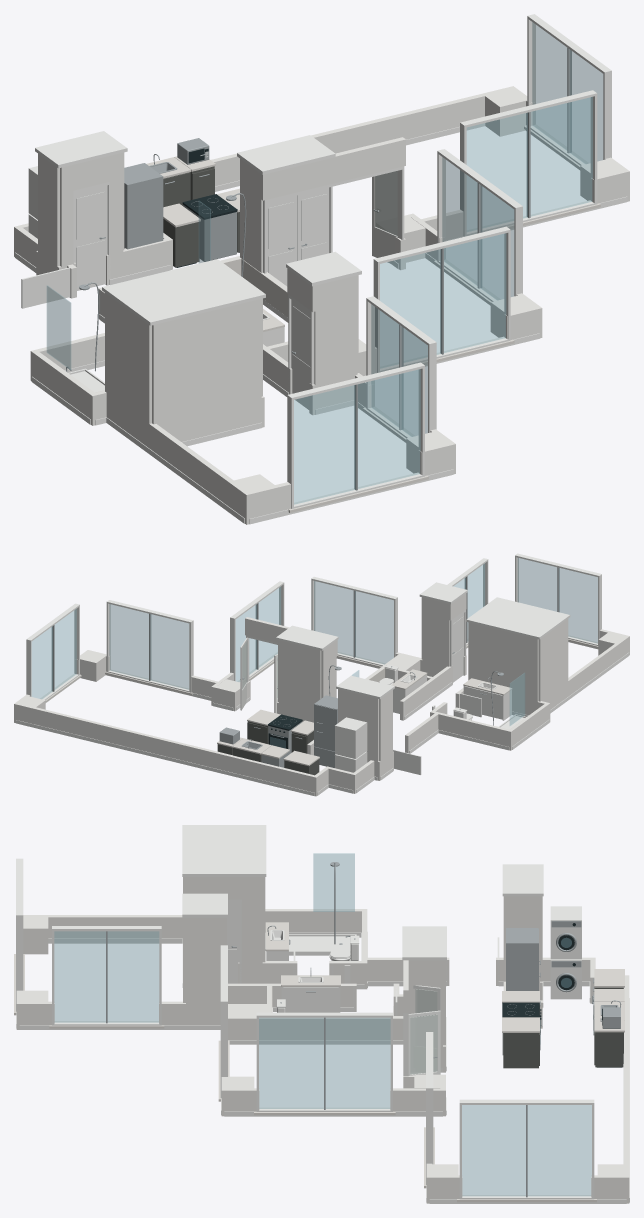
File: bush-4101-cutaway.glb
The picture shows the model from 3 angles, top to bottom: view 1: azimuth 30°, elevation 25°; view 2: azimuth 150°, elevation 25°; view 3: azimuth 270°, elevation 25°; orthographic projection. The views are drawn at different scales.
Visible parts, largest first — view 1: Window glazing (×6), Closet enclosure wall (×7), Wall (×13), Closet ceiling (×4), Window rail (×8), Wall above doorway (×4), Window jamb (×7), Door inset panel (×5), Painted door leaf (×4), Structural pier (×4), Refrigerator body, Oven body (+7 smaller); view 2: Window glazing (×6), Closet enclosure wall (×7), Wall (×12), Closet ceiling (×4), White baseboard, Window rail (×3), Dryer housing, Structural pier (×2), Painted door leaf (×2), Refrigerator door, Sink cabinet front, Wall above doorway (+5 smaller); view 3: Window glazing (×3), Wall (×14), Closet ceiling (×4), Closet enclosure wall (×4), Window rail (×6), White baseboard (×5), Glass shower screen, Cabinet carcass (×2), Refrigerator body, Window jamb (×3), Frosted door glass (×2), Sink cabinet front (+9 smaller).
Part boxes in pixels (left/top/right/bottom): Window glazing (×6): left=294, top=22, right=602, bottom=504; Closet enclosure wall (×7): left=38, top=153, right=357, bottom=424; Wall (×13): left=14, top=86, right=629, bottom=524; Closet ceiling (×4): left=35, top=131, right=361, bottom=325; Window rail (×8): left=287, top=14, right=611, bottom=508; Wall above doorway (×4): left=73, top=137, right=405, bottom=312; Window jamb (×7): left=366, top=17, right=611, bottom=432; Door inset panel (×5): left=76, top=192, right=326, bottom=359; Painted door leaf (×4): left=21, top=185, right=329, bottom=308; Structural pier (×4): left=404, top=89, right=533, bottom=473; Refrigerator body: left=124, top=163, right=163, bottom=249; Oven body: left=183, top=205, right=236, bottom=261; Window glazing (×6): left=32, top=558, right=597, bottom=698; Closet enclosure wall (×7): left=278, top=597, right=568, bottom=761; Wall (×12): left=14, top=637, right=627, bottom=796; Closet ceiling (×4): left=276, top=582, right=570, bottom=699; White baseboard: left=15, top=720, right=314, bottom=796; Window rail (×3): left=106, top=553, right=601, bottom=623; Dryer housing: left=335, top=717, right=367, bottom=758; Structural pier (×2): left=80, top=652, right=420, bottom=681; Painted door leaf (×2): left=393, top=693, right=481, bottom=774; Refrigerator door: left=314, top=704, right=336, bottom=750; Sink cabinet front: left=464, top=686, right=503, bottom=719; Wall above doorway: left=245, top=617, right=289, bottom=642; Window glazing (×3): left=54, top=931, right=591, bottom=1195; Wall (×14): left=16, top=909, right=629, bottom=1203; Closet ceiling (×4): left=182, top=825, right=543, bottom=960; Closet enclosure wall (×4): left=186, top=877, right=539, bottom=1046; Window rail (×6): left=52, top=926, right=594, bottom=1199; White baseboard (×5): left=19, top=938, right=626, bottom=1203; Glass shower screen: left=313, top=853, right=354, bottom=911; Cabinet carcass (×2): left=503, top=1032, right=623, bottom=1068; Refrigerator body: left=506, top=928, right=538, bottom=990; Window jamb (×3): left=16, top=916, right=433, bottom=1184; Frosted door glass (×2): left=410, top=989, right=437, bottom=1074; Sink cabinet front: left=282, top=987, right=339, bottom=1012.
Bounding box in the file's own units: 13.88 × 2.77 × 13.38.
